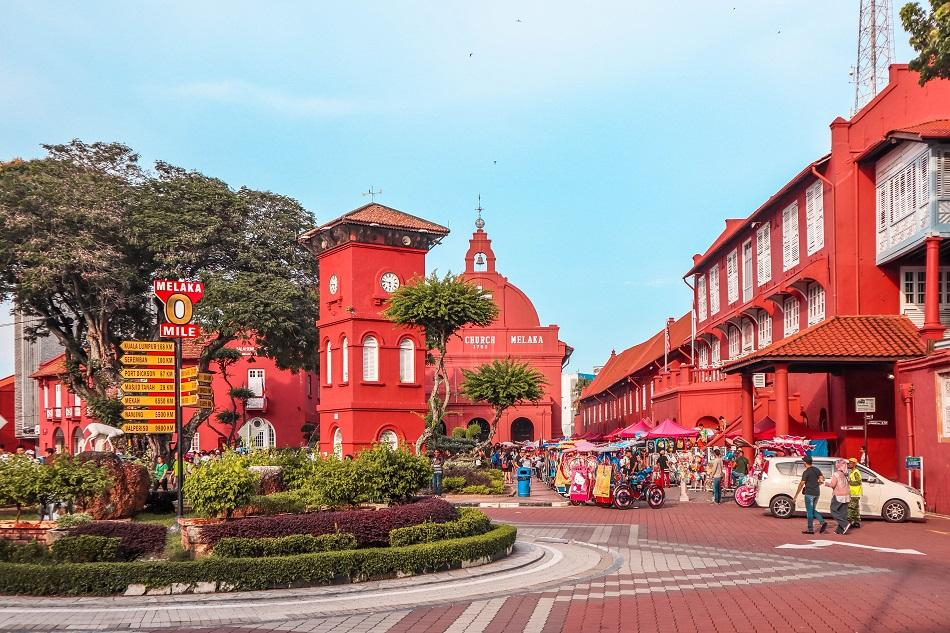Church: (420, 203, 561, 434)
